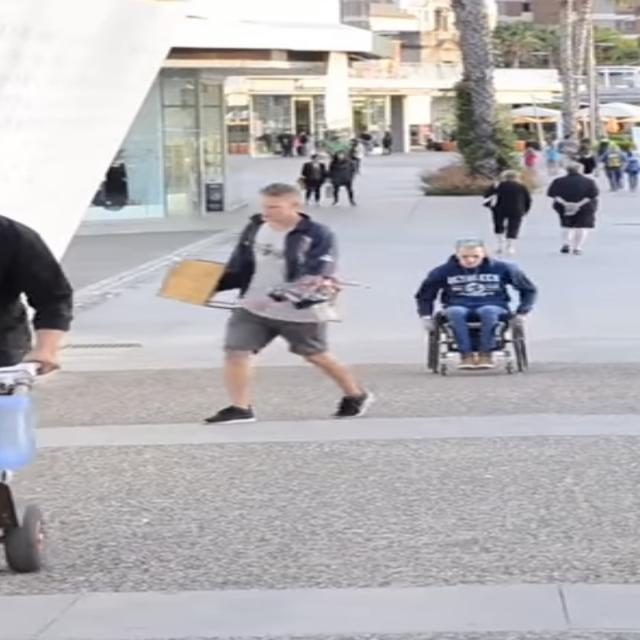wheelchairs: (424, 290, 532, 373)
